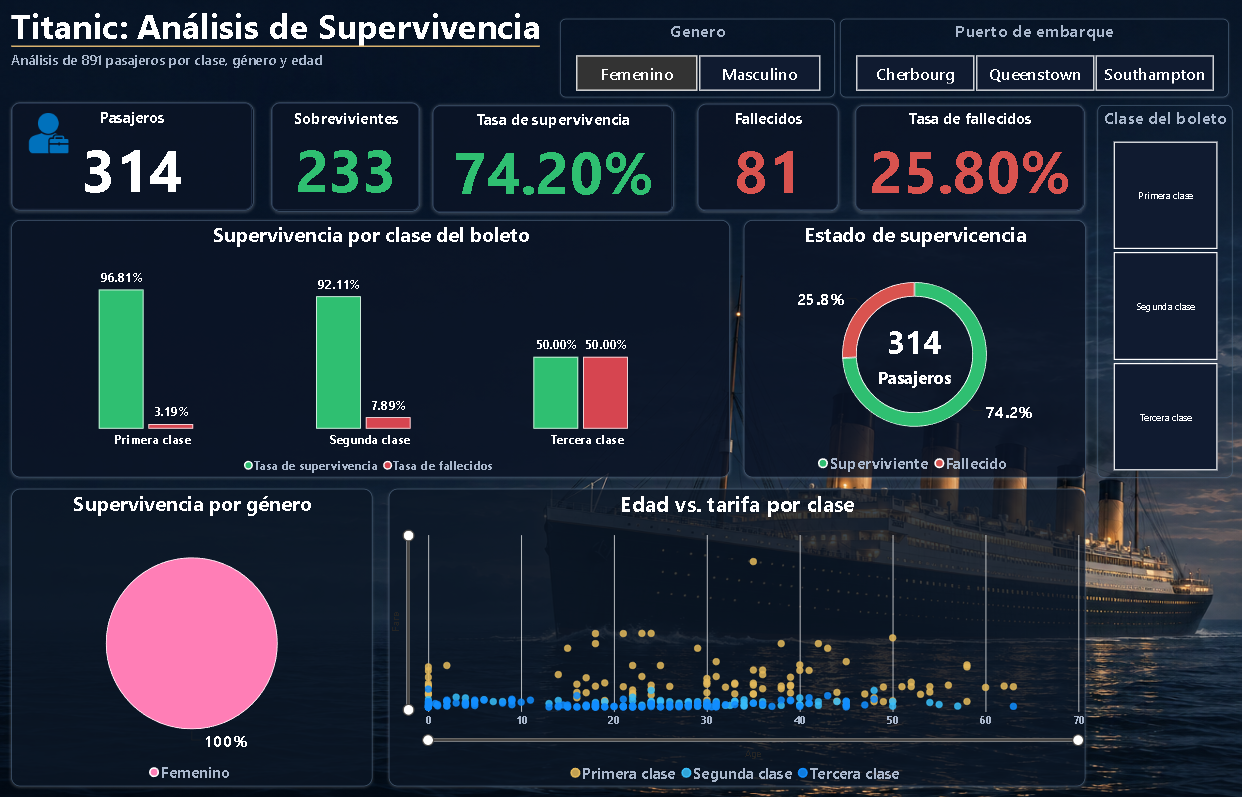

The dashboard page shown, as its layout file describes it:
{"tool":"powerbi","page":{"name":"Performances","canvas":[1920,1080],"ordinal":0},"visuals":[{"type":"cardVisual","fields":{"Data":["Titanic-Dataset.Cantidad_Pasajeros"]},"box":[268.6,150,322.9,144.3],"z":0},{"type":"cardVisual","fields":{"Data":["Titanic-Dataset.Sobrevivientes"]},"box":[615.7,150,198.6,145.7],"z":1000},{"type":"cardVisual","fields":{"Data":["Titanic-Dataset.Fallecidos"]},"box":[1183.3,151.7,188.3,143.3],"z":2000},{"type":"cardVisual","fields":{"Data":["Titanic-Dataset.Tasa_supervivencia"]},"box":[830,152.9,321.4,144.3],"z":3000},{"type":"donutChart","title":"Estado de supervicencia","fields":{"Category":["Titanic-Dataset.Tipo"],"Y":["Titanic-Dataset.Pasajeros"]},"box":[1244.3,307.1,455.7,342.9],"z":4000},{"type":"image","box":[268.3,160,99.7,61.9],"z":5000},{"type":"pieChart","title":"Supervivencia por género","fields":{"Category":["Titanic-Dataset.Genero"],"Series":["Titanic-Dataset.Tipo"],"Y":["Titanic-Dataset.Sobrevivientes"]},"box":[268.3,665,481.7,396.7],"z":6000},{"type":"clusteredColumnChart","title":"Supervivencia por clase del boleto","fields":{"Category":["Titanic-Dataset.Clase_Boleto"],"Y":["Titanic-Dataset.Tasa de supervivencia","Titanic-Dataset.Tasa de fallecidos"]},"box":[268,306.7,958.3,343.3],"z":7000},{"type":"scatterChart","title":"Edad vs. tarifa por clase","fields":{"Series":["Titanic-Dataset.Clase_Boleto"],"X":["Titanic-Dataset.Age"],"Y":["Titanic-Dataset.Fare"]},"box":[771.4,664.3,928.6,397.1],"z":8000},{"type":"textbox","title":"Titanic: Análisis de Supervivencia","box":[268.3,16.7,1385,105],"z":9000},{"type":"shape","box":[268.3,0,705,150],"z":10000},{"type":"slicer","title":"Genero","fields":{"Values":["Titanic-Dataset.Genero"]},"box":[999.7,38,366.7,105],"z":11000},{"type":"slicer","title":"Puerto de embarque","fields":{"Values":["Titanic-Dataset.Embarked_Town"]},"box":[1373,38,518.3,105],"z":12000},{"type":"slicer","title":"Clase del boleto","fields":{"Values":["Titanic-Dataset.Clase_Boleto"]},"box":[1716.7,153.3,180,496.7],"z":13000},{"type":"cardVisual","fields":{"Data":["Titanic-Dataset.Tasa_Fallecidos"]},"box":[1393.3,153.3,306.7,141.7],"z":14000}]}

Visuals, with their boxes on the page's 1920x1080 design canvas (x1, y1, x2, y2). These are canvas units, not pixel positions in the 1242x797 screenshot, which may show the page scaled, cropped or inside an application window:
cardVisual - Titanic-Dataset.Cantidad_Pasajeros: (269,150,592,294)
cardVisual - Titanic-Dataset.Sobrevivientes: (616,150,814,296)
cardVisual - Titanic-Dataset.Fallecidos: (1183,152,1372,295)
cardVisual - Titanic-Dataset.Tasa_supervivencia: (830,153,1151,297)
"Estado de supervicencia" donutChart: (1244,307,1700,650)
image: (268,160,368,222)
"Supervivencia por género" pieChart: (268,665,750,1062)
"Supervivencia por clase del boleto" clusteredColumnChart: (268,307,1226,650)
"Edad vs. tarifa por clase" scatterChart: (771,664,1700,1061)
"Titanic: Análisis de Supervivencia" textbox: (268,17,1653,122)
shape: (268,0,973,150)
"Genero" slicer: (1000,38,1366,143)
"Puerto de embarque" slicer: (1373,38,1891,143)
"Clase del boleto" slicer: (1717,153,1897,650)
cardVisual - Titanic-Dataset.Tasa_Fallecidos: (1393,153,1700,295)
